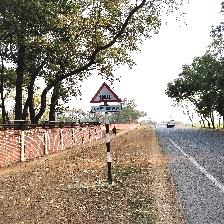Rail-crossing: (89, 82, 122, 114)
